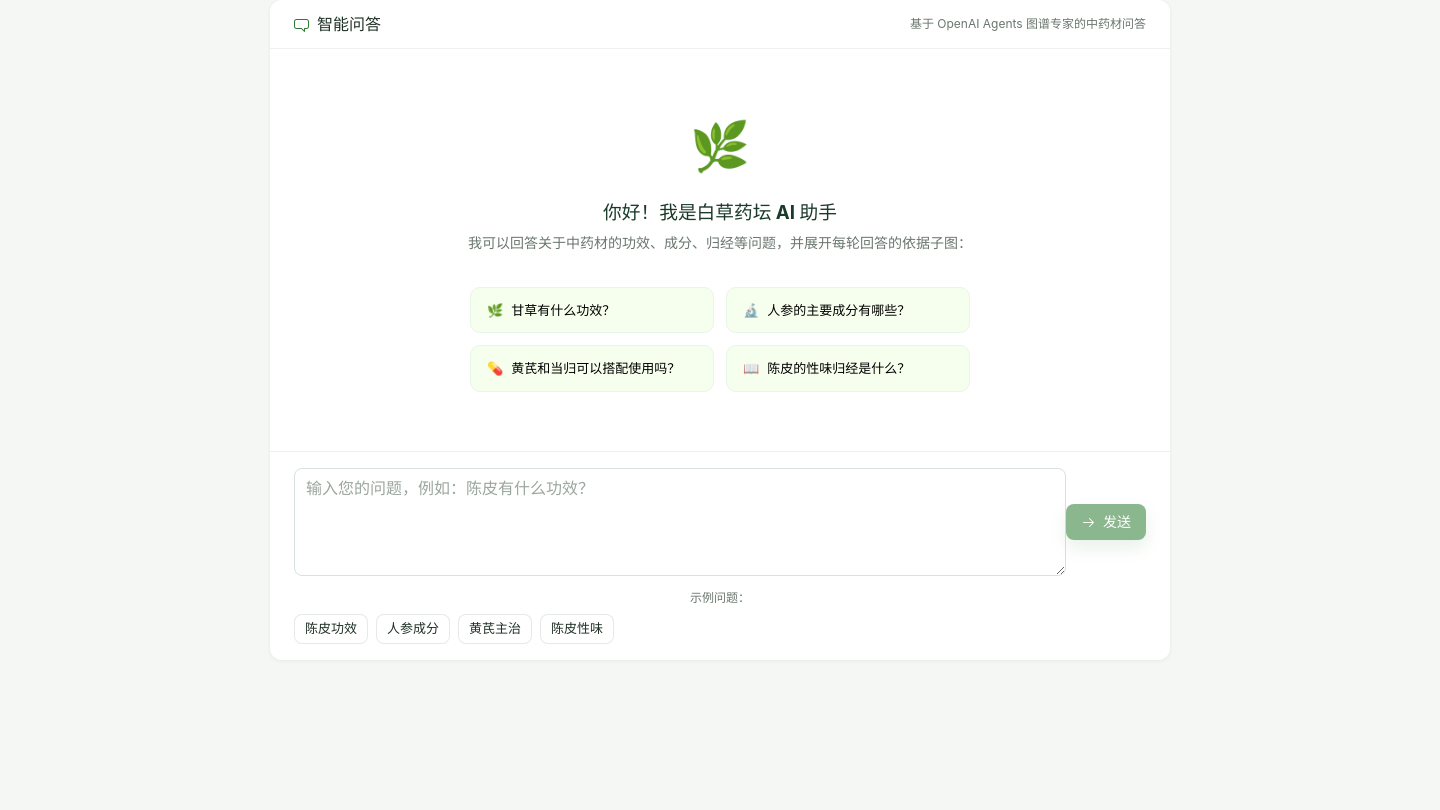
Scenario: ChatPage › keeps citation actions when source is missing and still opens lineage by entity_id
Type "陈皮有什么功效？" into the text box with placeholder "输入您的问题，例如：陈皮有什么功效？" at (680, 522), box [294,468,1066,576]
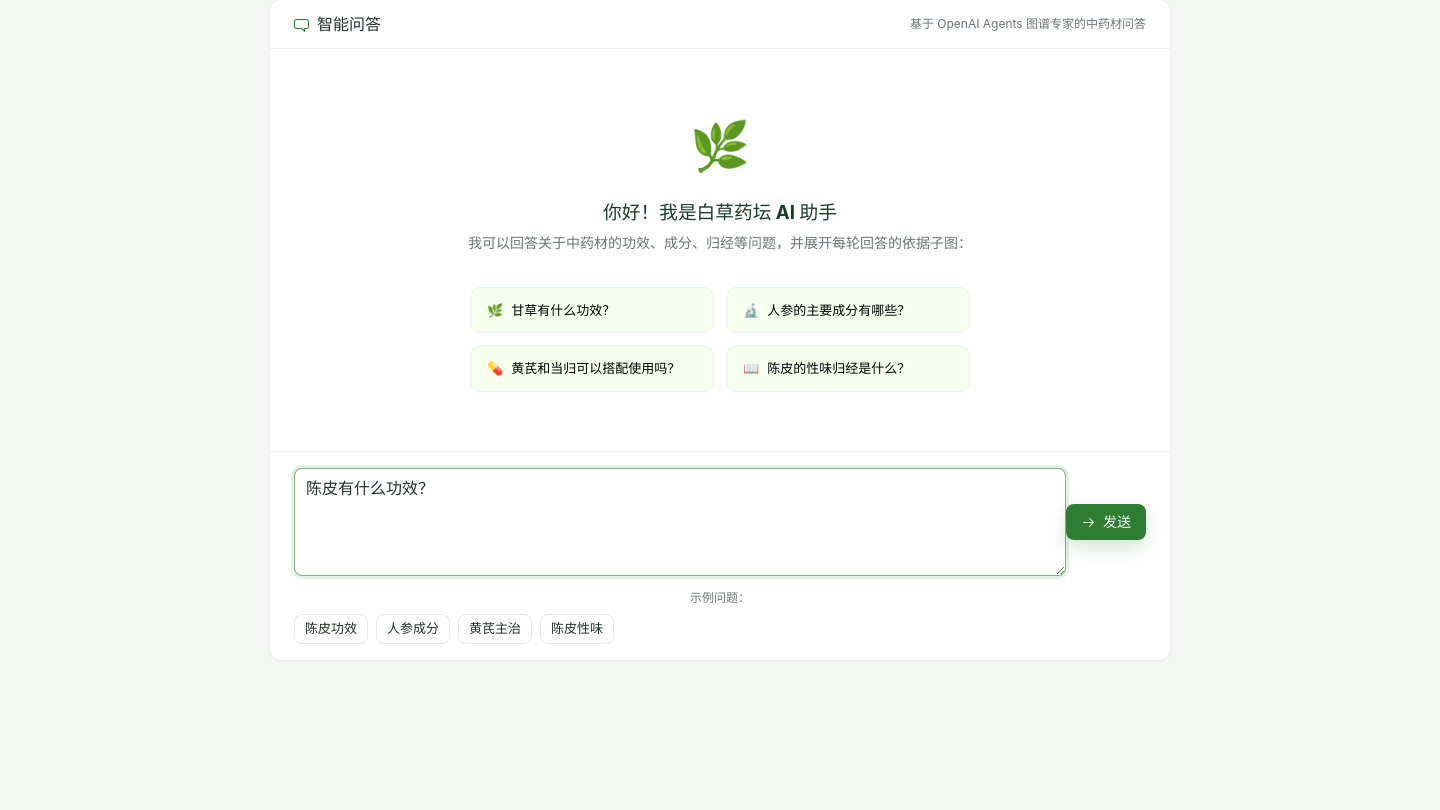
Click the button "发送" at (1106, 522), box [1066,504,1146,540]
(page scrolled)
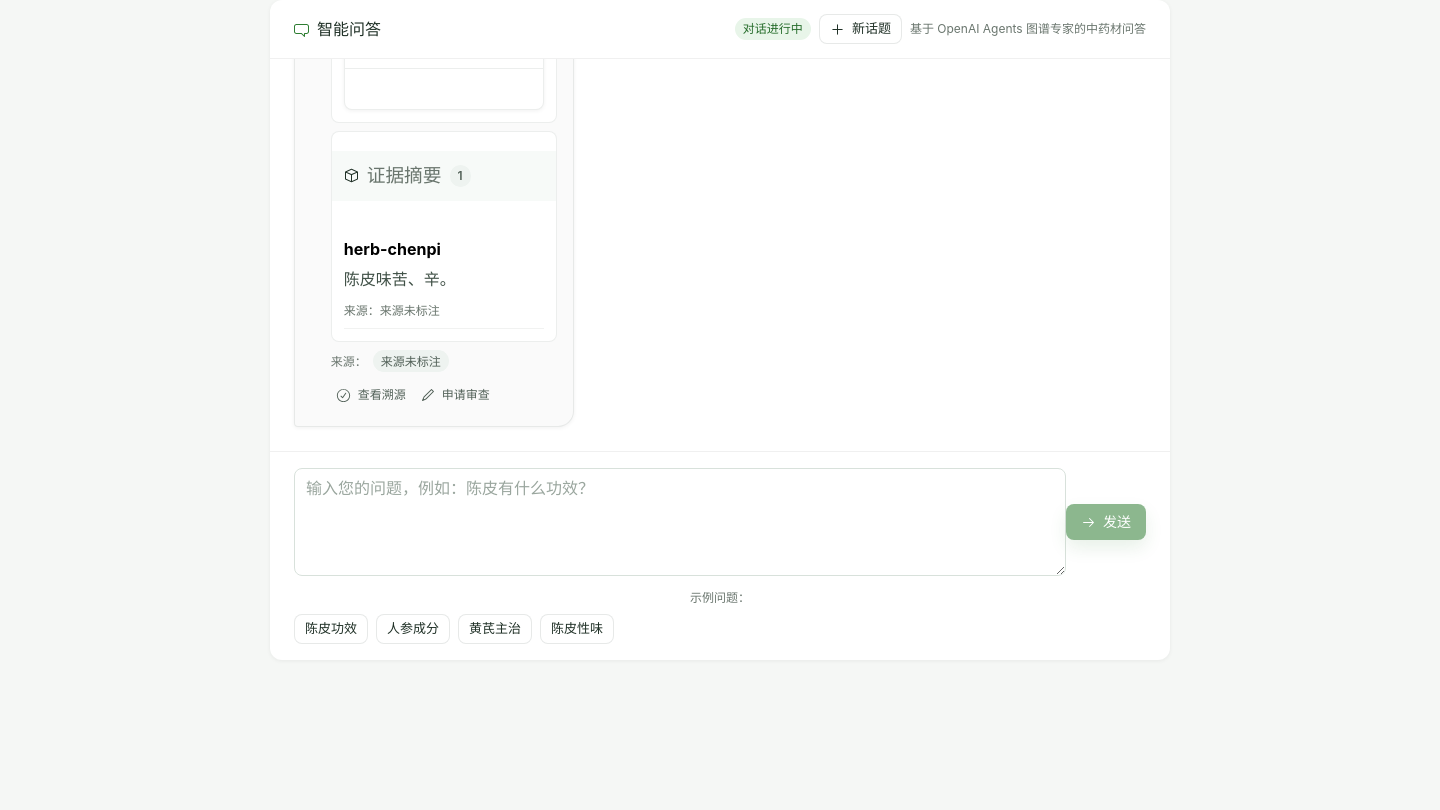
Now the text "来源未标注" is shown, box [373,350,449,372]
Now the element with test id "chat-citation" is shown, box [331,350,495,410]
Click the button with aria-label "查看溯源 herb-chenpi" at (371, 395), box [331,380,411,410]
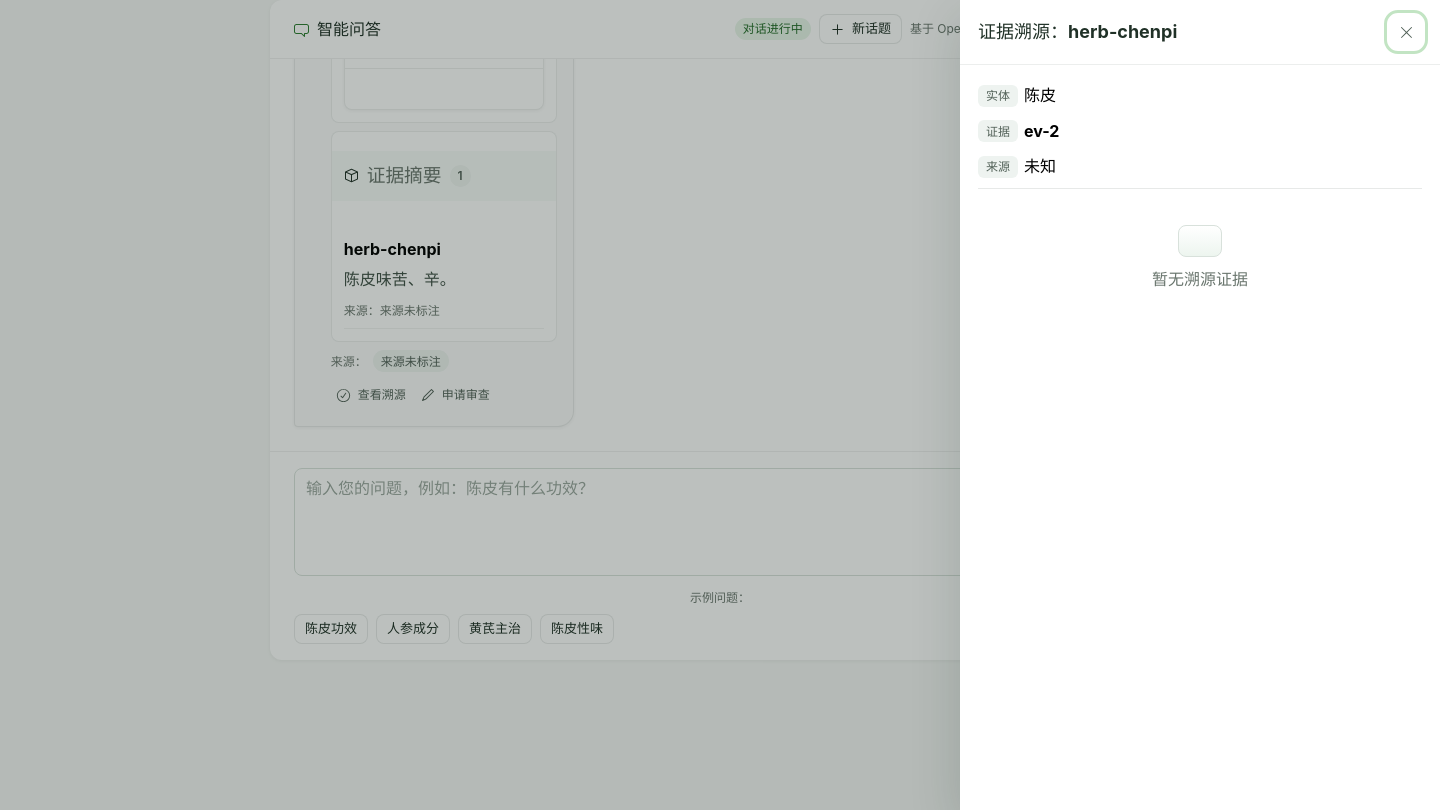
Click the button named "关闭抽屉" at (1406, 32), box [1390,16,1422,48]
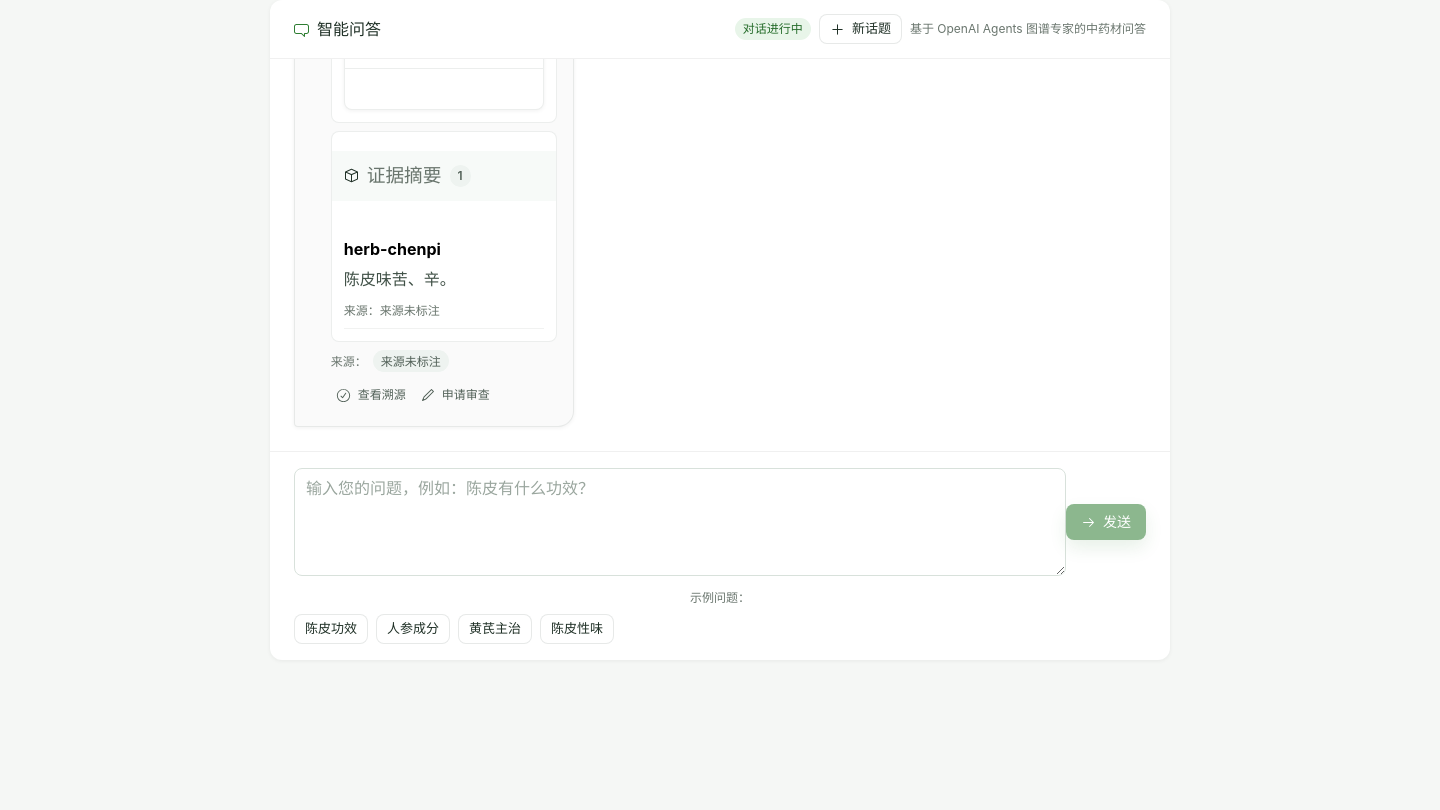
Click the button with aria-label "申请审查 herb-chenpi" at (455, 395), box [415,380,495,410]
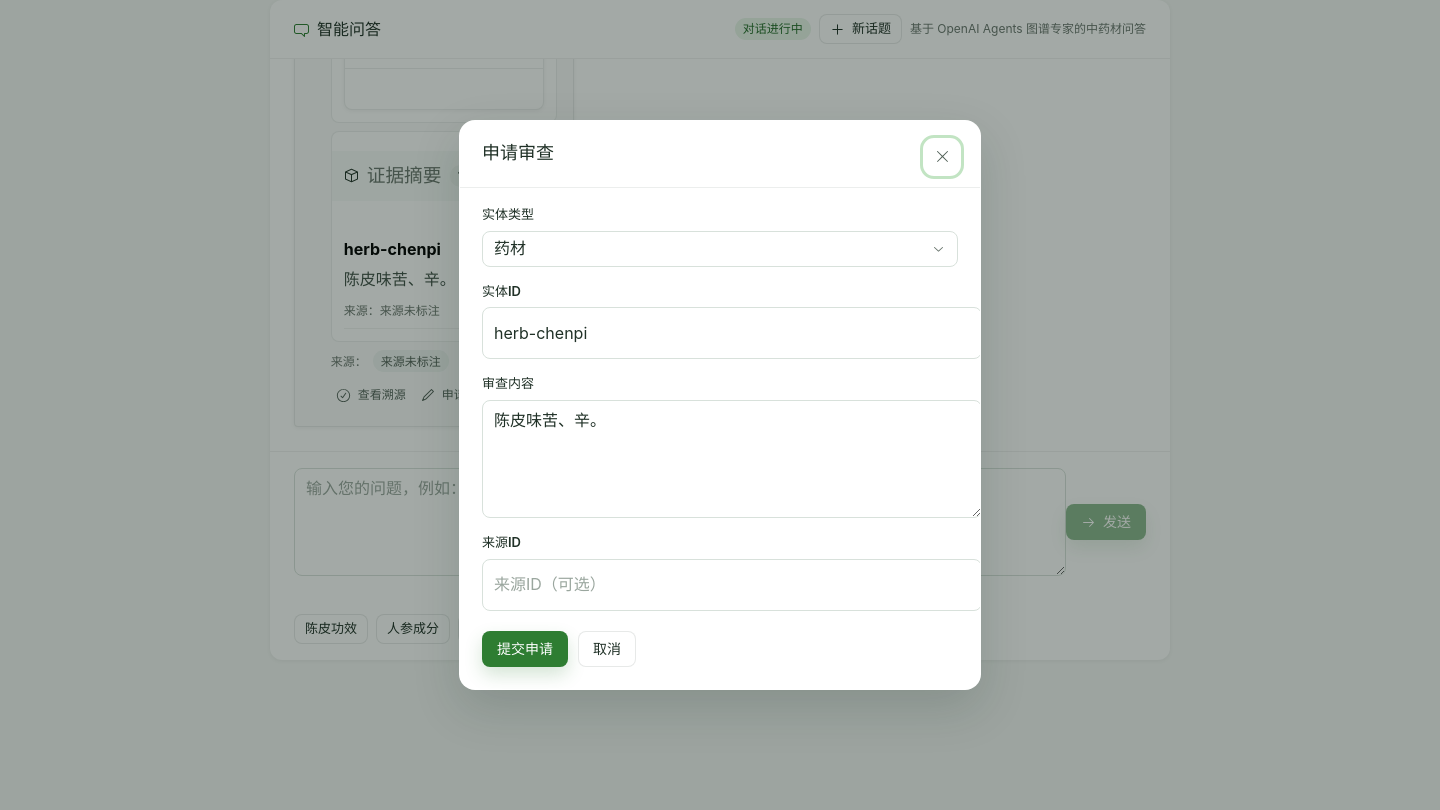
Now the field labelled "实体ID" holds "herb-chenpi", box [482,307,981,359]
Now the field labelled "来源ID" is empty, box [482,559,981,611]
Now the text box labelled "审查内容" holds "陈皮味苦、辛。", box [482,400,981,518]
